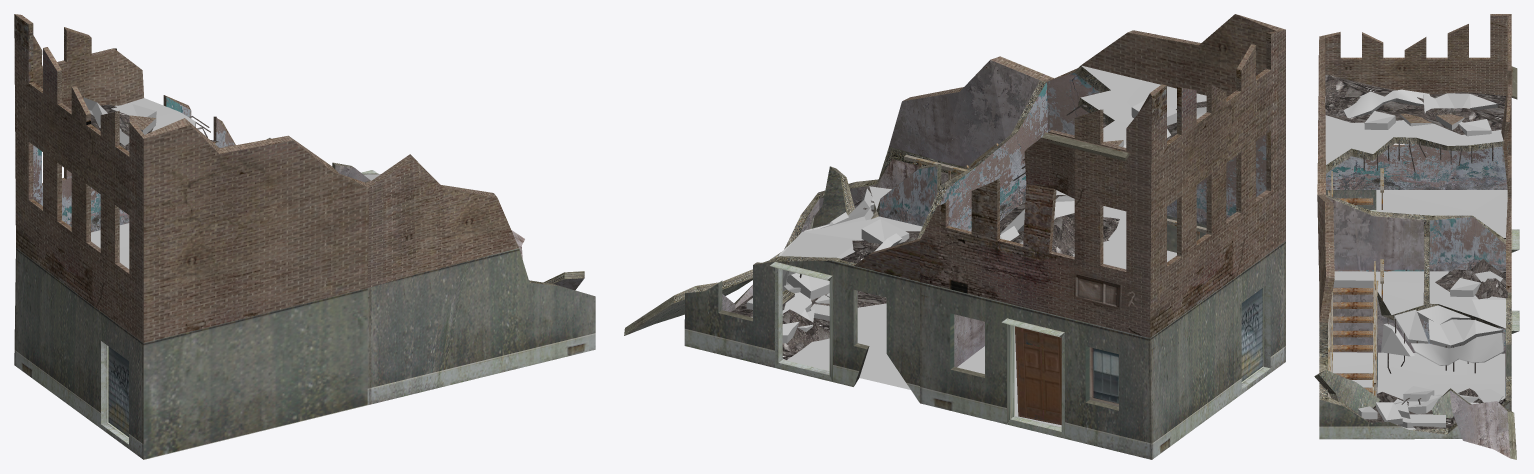
Rendered from Building_21.fbx.
3 renders of one model, left to right at view 1: azimuth 30°, elevation 25°; view 2: azimuth 150°, elevation 25°; view 3: azimuth 270°, elevation 25°, orthographic. The views are drawn at different scales.
Parts seen in each view (by area): view 1: Building_21; view 2: Building_21; view 3: Building_21.
Boxes of the visible parts, x1,y1,x2,y2 form: Building_21: (14, 14, 595, 459); Building_21: (624, 14, 1285, 459); Building_21: (1314, 14, 1519, 459).
Bounding box in the file's own units: 1066 × 710 × 500.
